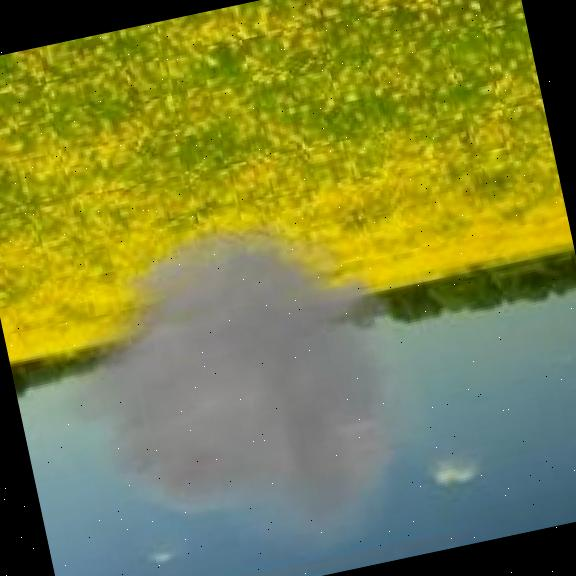smoke: (10, 180, 470, 576)
